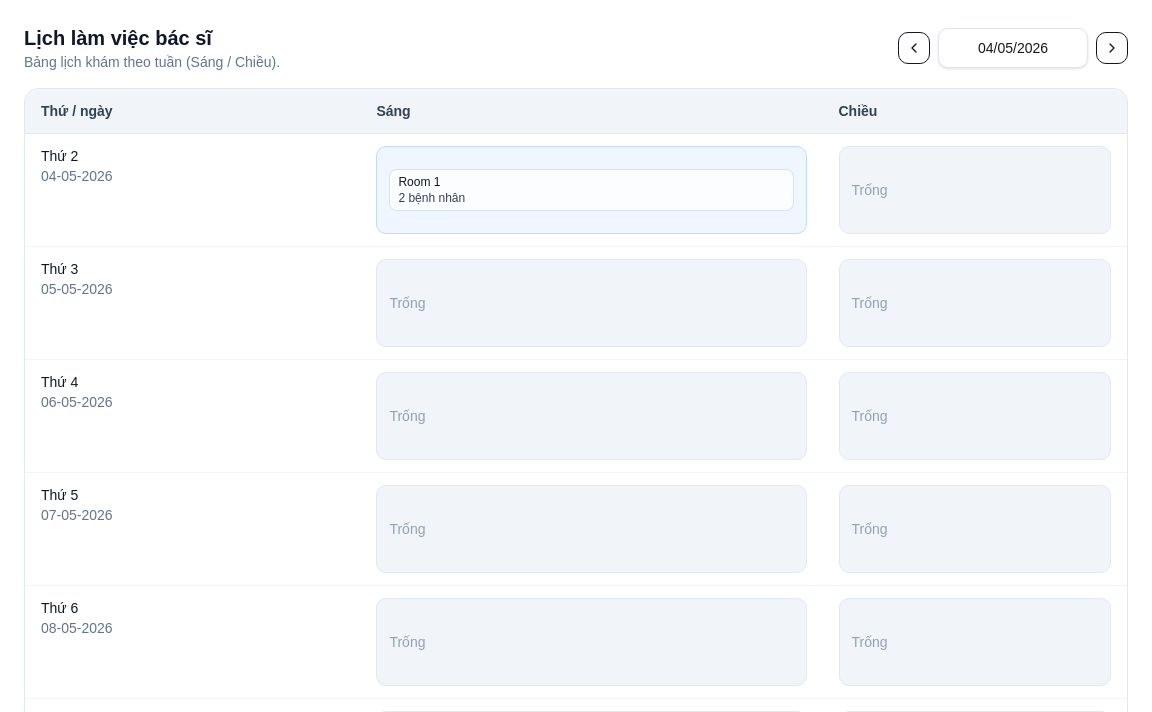
Test: DoctorWeeklyScheduleWorkflowPage › opens patient list and quick info flow from timetable cell
Click the text "Room 1" at (419, 182), box [398, 175, 440, 189]
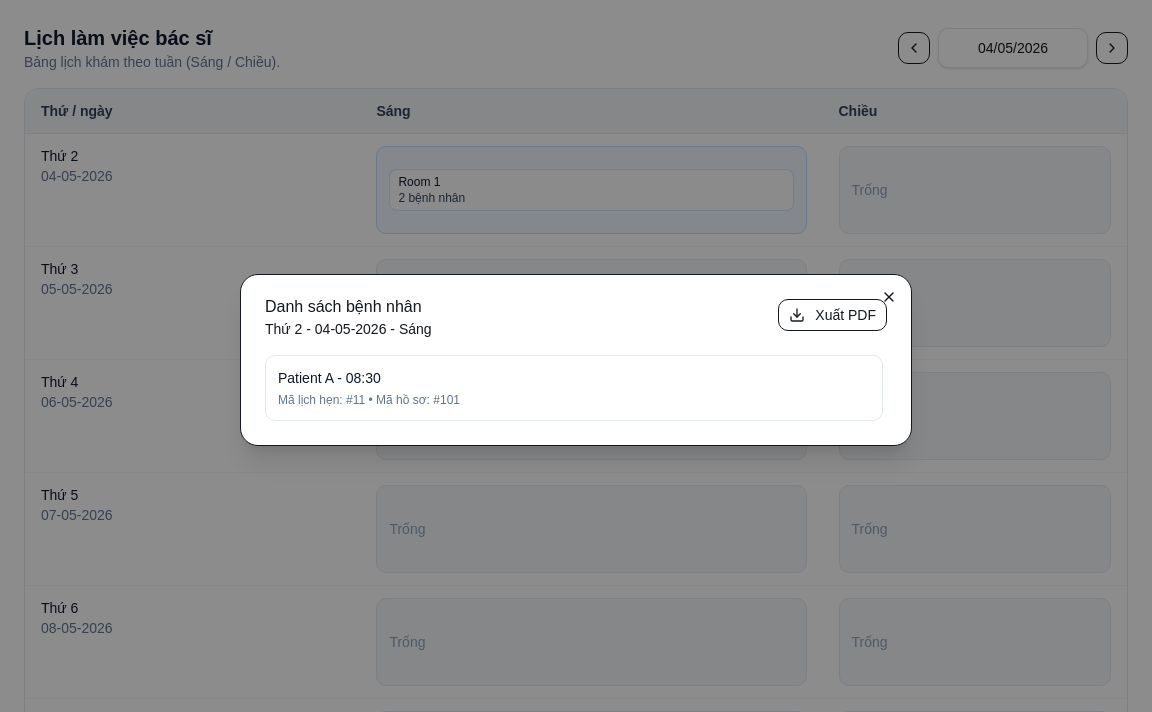
Check: the text "Patient A - 08:30" is shown
Click the text "Patient A - 08:30" at (329, 378), box [278, 370, 381, 386]
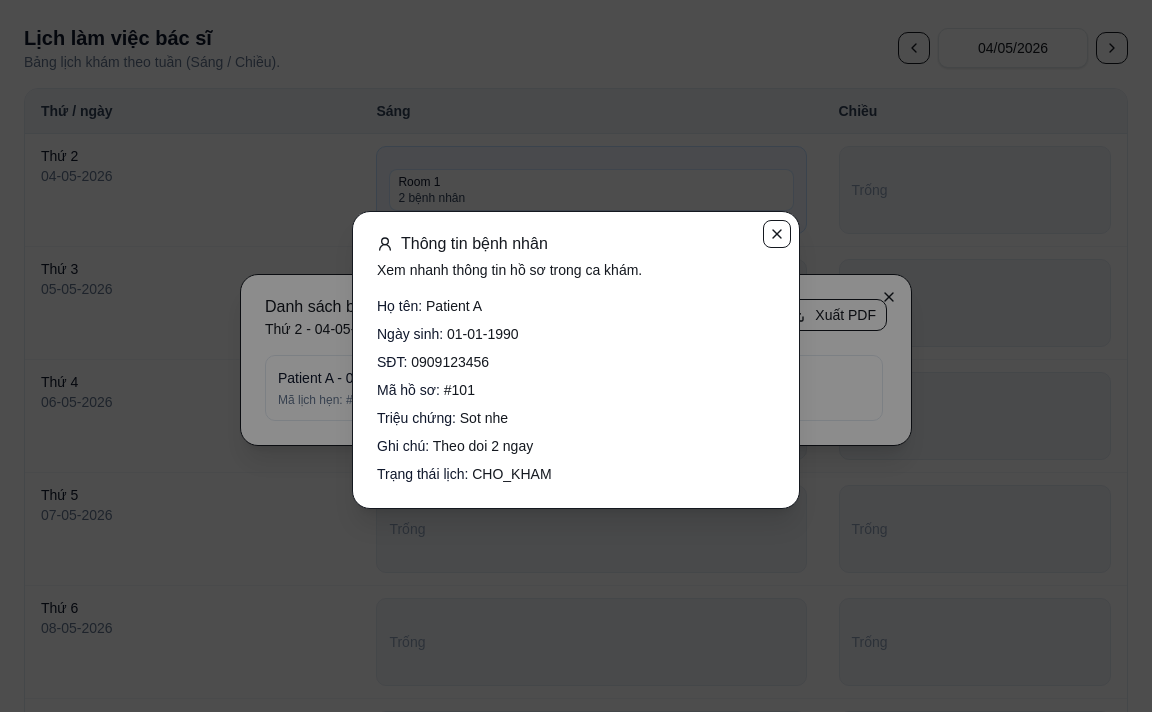
Check: the text "Ghi chú: Theo doi 2 ngay" is shown, box [377, 438, 533, 454]
